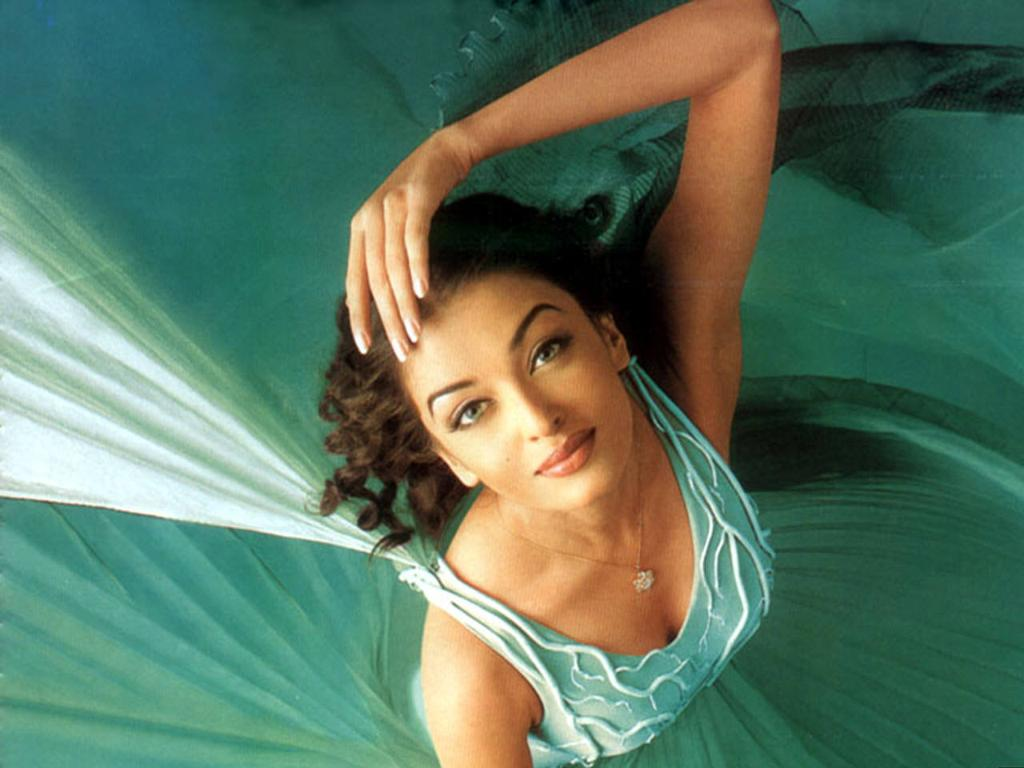face: (406, 282, 632, 506)
